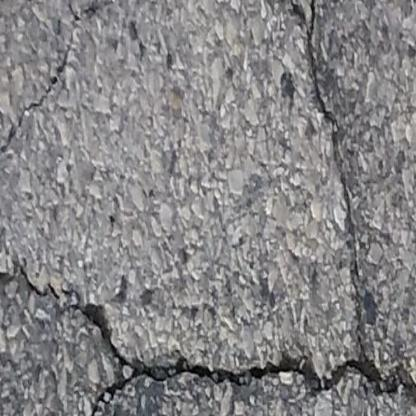Cracks: (0, 0, 416, 416), (0, 29, 78, 211)
